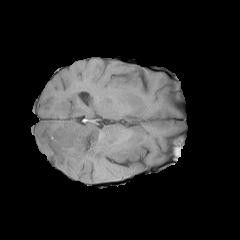glioma: (37, 94, 145, 181)
